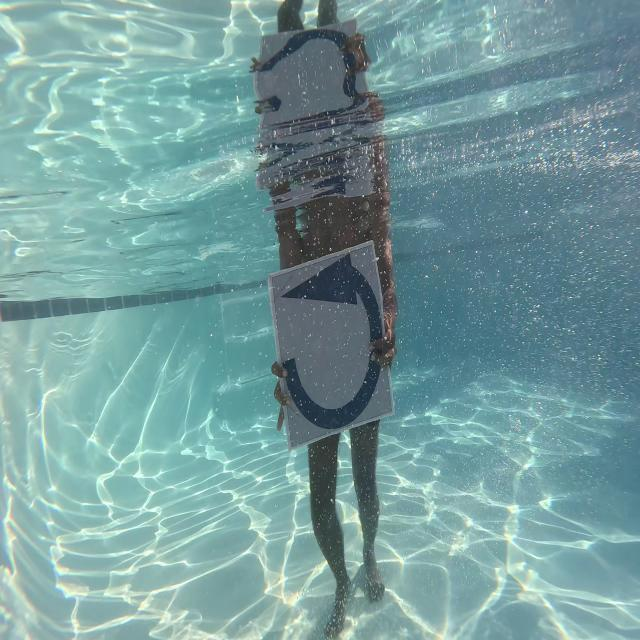blue_side: (274, 255, 392, 436)
